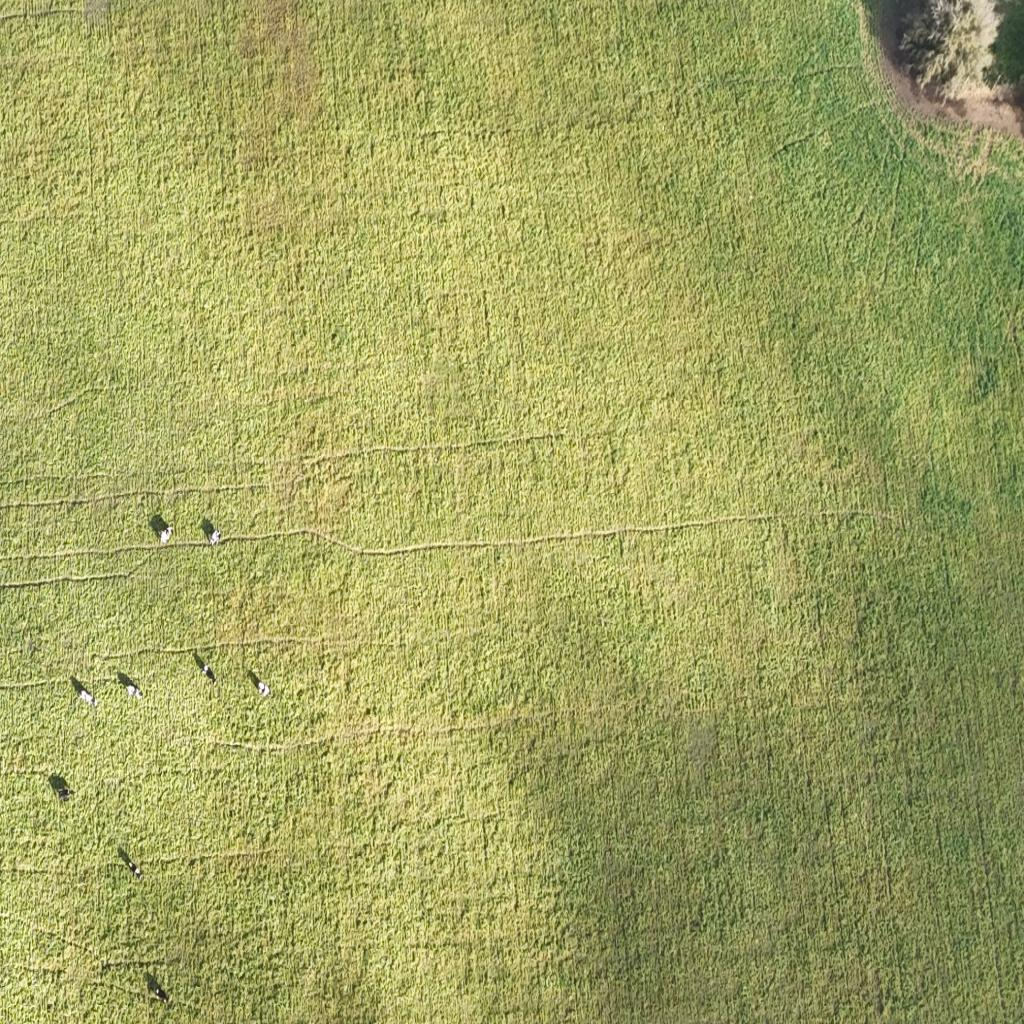cow: (80, 688, 95, 708), (126, 683, 142, 700), (257, 680, 271, 697), (160, 526, 172, 545), (156, 986, 168, 1004), (209, 528, 221, 546), (202, 664, 214, 682), (58, 788, 72, 802), (133, 868, 143, 882), (164, 523, 174, 535)
